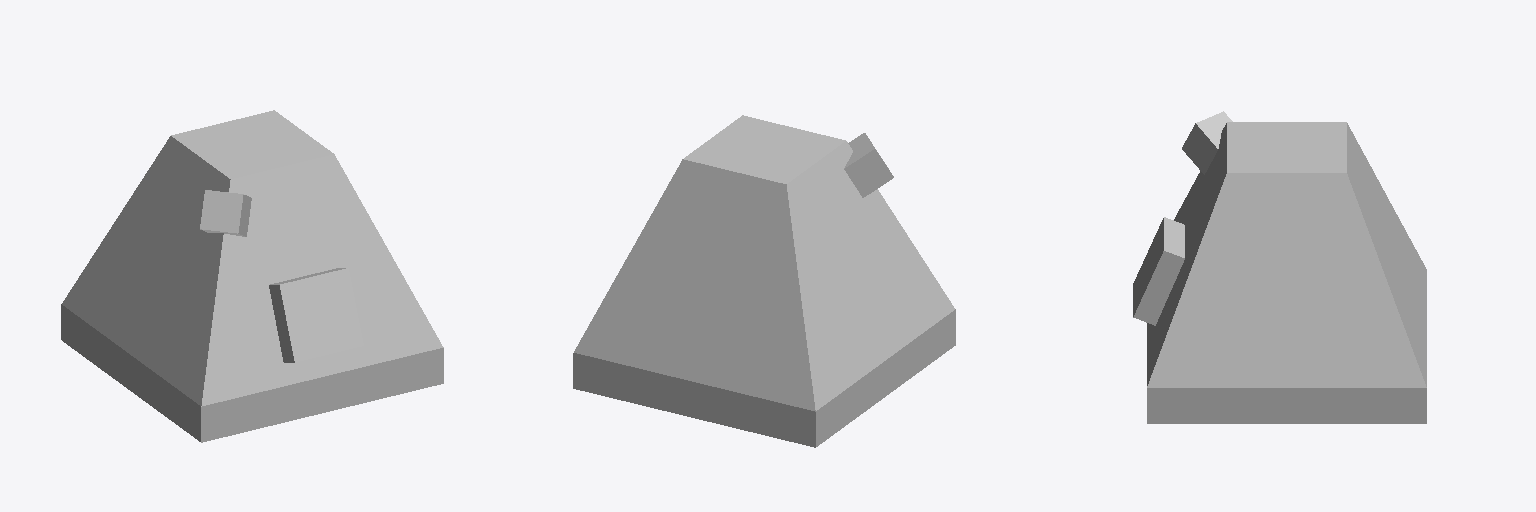
File: r4-head.obj
3 views of the same model, side by side, from view 1: azimuth 30°, elevation 25°; view 2: azimuth 150°, elevation 25°; view 3: azimuth 270°, elevation 25° (orthographic).
Parts seen in each view (by area): view 1: head.002, eye.001, projector.001; view 2: head.002, projector.001; view 3: head.002, eye.001, projector.001.
Boxes of the visible parts, <box> form: head.002: <box>61,110,443,442</box>; eye.001: <box>269,268,363,362</box>; projector.001: <box>200,190,251,236</box>; head.002: <box>573,115,955,447</box>; projector.001: <box>844,133,893,197</box>; head.002: <box>1147,122,1426,423</box>; eye.001: <box>1133,217,1184,325</box>; projector.001: <box>1182,111,1232,174</box>.
Bounding box in the file's own units: 0.7 × 0.6 × 0.7344.